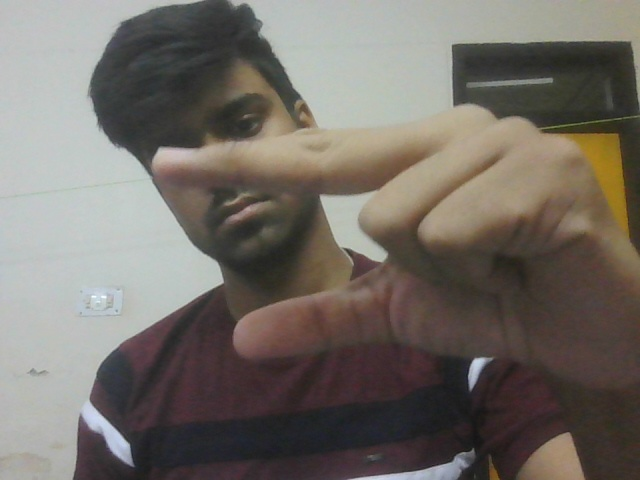no: (143, 95, 640, 405)
